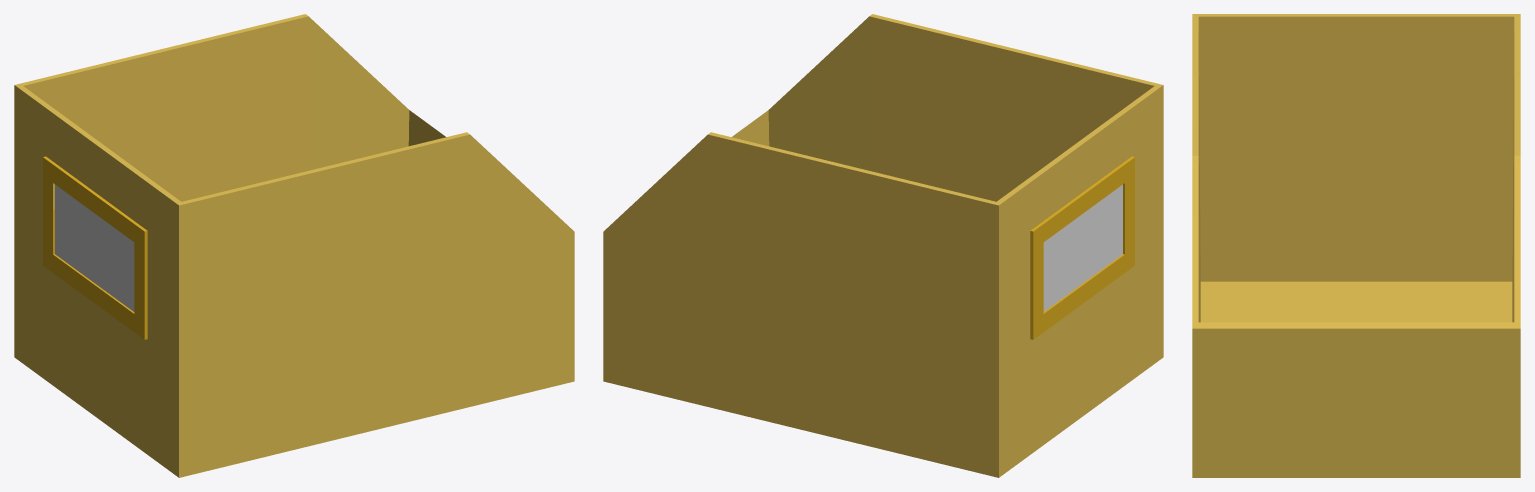
File: container.fbx
3 views of the same model, side by side, from view 1: azimuth 30°, elevation 25°; view 2: azimuth 150°, elevation 25°; view 3: azimuth 270°, elevation 25° (orthographic).
Visible parts, largest first — view 1: Cube; view 2: Cube; view 3: Cube.
Boxes of the visible parts, <box> form: Cube: <box>14,14,574,477</box>; Cube: <box>603,14,1163,477</box>; Cube: <box>1192,14,1520,477</box>.
Size of the model in its own units: 306 by 200 by 219.
